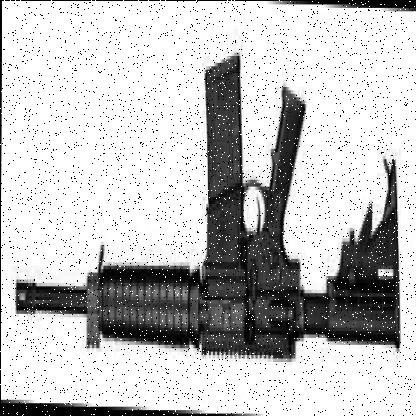rifle: (14, 51, 397, 386)
